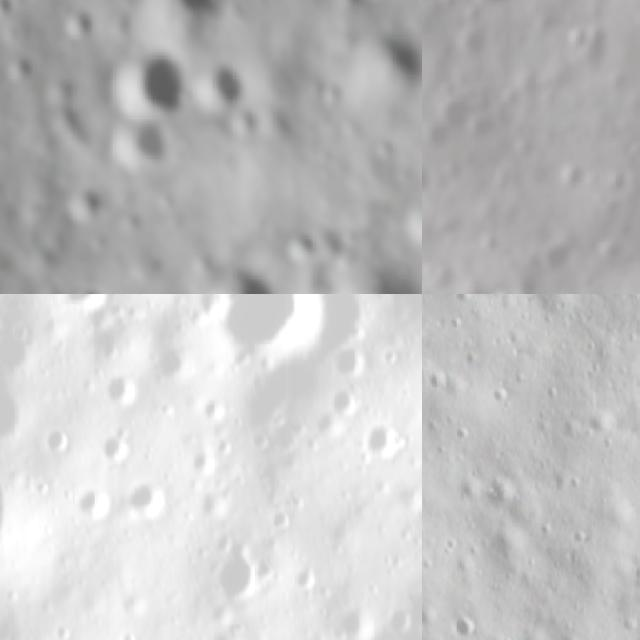crater: (220, 294, 325, 366), (109, 39, 198, 120), (353, 21, 422, 114), (103, 112, 177, 172), (195, 55, 252, 118), (313, 294, 384, 344), (195, 257, 284, 294), (216, 544, 267, 602), (58, 180, 113, 233), (149, 0, 232, 34), (341, 262, 422, 294), (426, 85, 474, 133), (532, 232, 578, 280), (121, 478, 172, 520), (489, 80, 533, 128), (284, 221, 326, 269), (363, 418, 411, 460), (57, 0, 102, 43), (100, 423, 138, 471), (452, 20, 494, 63), (157, 335, 195, 380), (336, 603, 378, 640), (329, 344, 372, 379), (554, 16, 591, 55), (548, 156, 586, 192), (401, 187, 422, 245), (3, 48, 37, 83), (77, 484, 111, 519), (193, 294, 230, 326), (427, 257, 458, 294), (488, 478, 522, 511), (108, 372, 139, 408), (601, 164, 635, 196), (594, 233, 629, 264), (292, 558, 322, 593), (329, 384, 360, 416), (422, 148, 440, 203), (69, 273, 112, 294), (193, 447, 222, 478), (204, 392, 236, 420), (470, 229, 501, 257), (204, 487, 233, 516), (64, 294, 113, 309), (45, 426, 72, 449), (272, 504, 294, 528), (204, 626, 241, 640), (471, 284, 517, 294), (0, 0, 18, 18)
